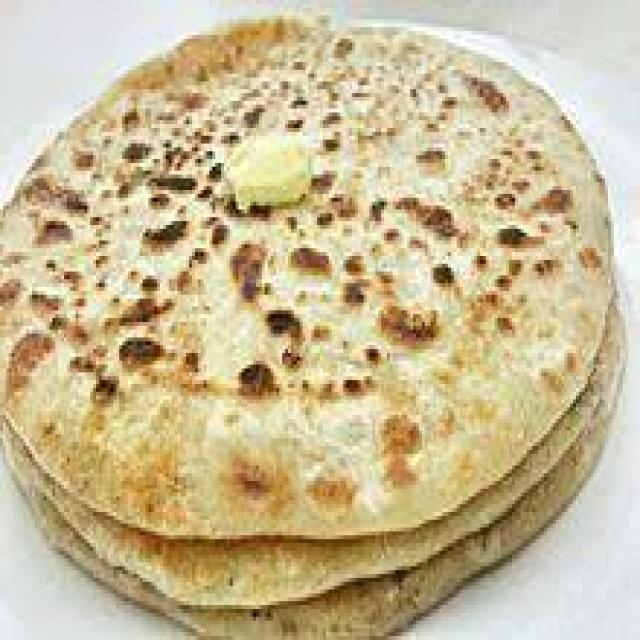organic: (0, 12, 628, 640)
